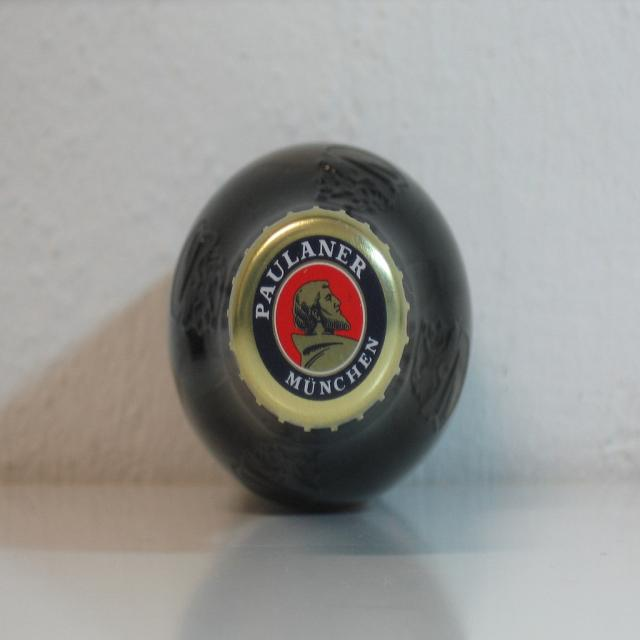paulaner: (252, 238, 388, 402)
